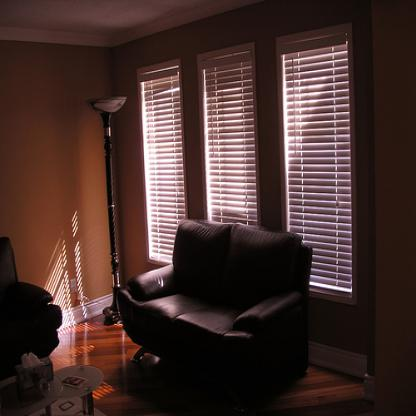chair: (1, 236, 61, 375)
sofa: (116, 216, 312, 390)
